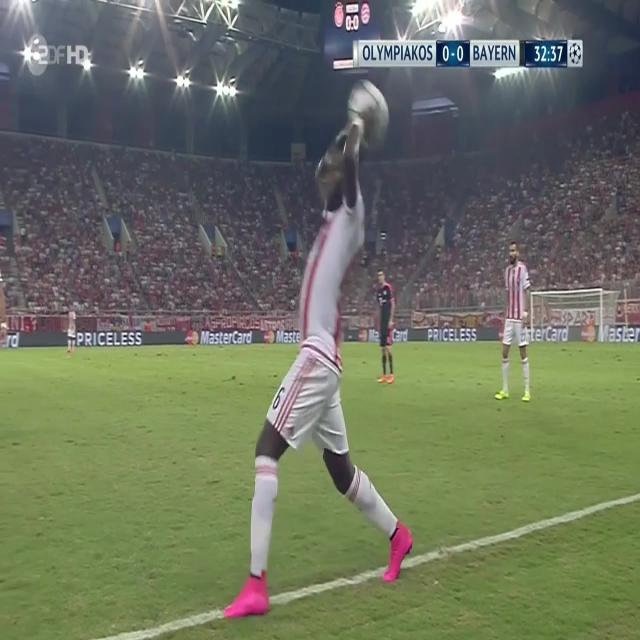Ball: (344, 76, 391, 149)
Player: (221, 112, 416, 623), (492, 239, 535, 405), (376, 266, 396, 385), (64, 305, 80, 358)
